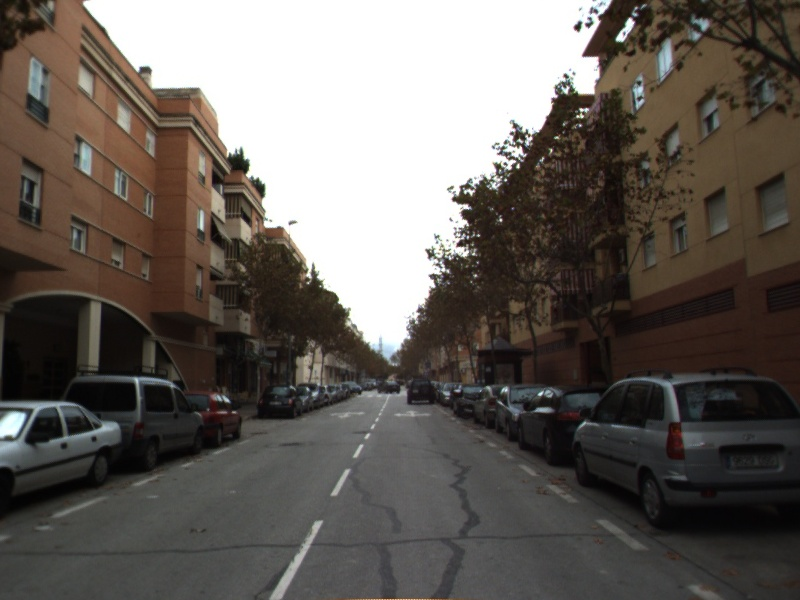STRAIGHT_LEFT_RIGHT: (391, 408, 434, 419)
